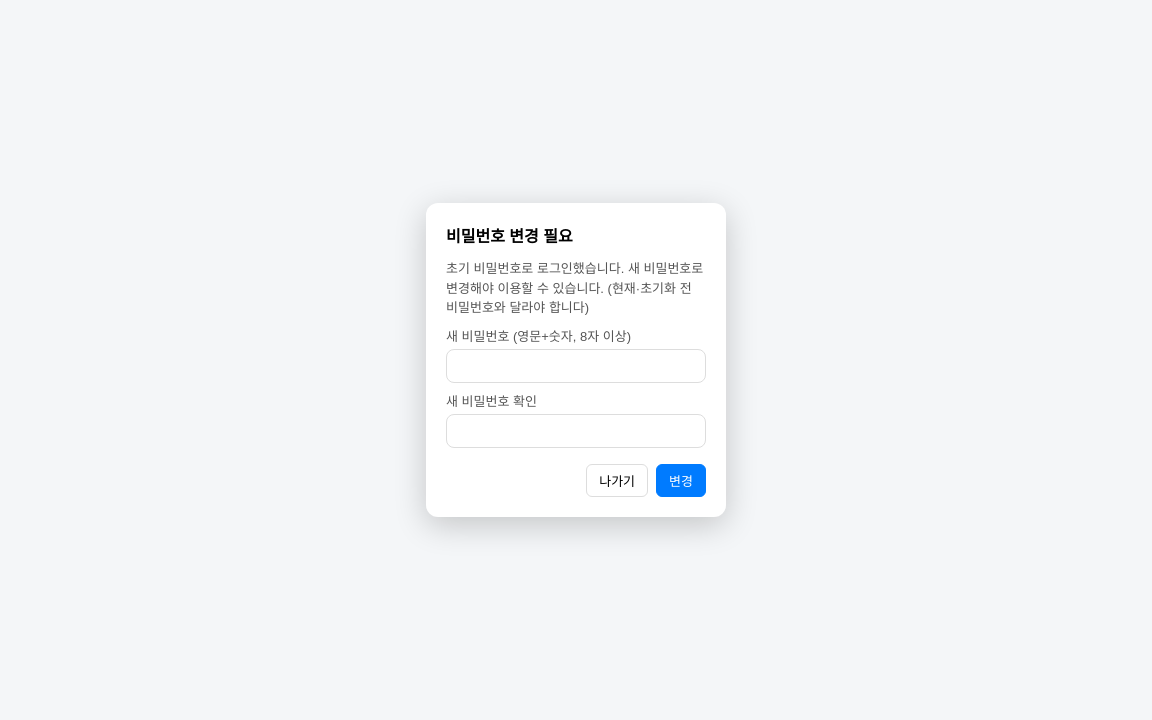
Test case: PasswordChangeModal › 규칙 위반/확인 불일치면 보내지 않고 사유를 보여준다
In the password field with class "new-password": (576, 366) x1=446 y1=349 x2=706 y2=383, type "short1"
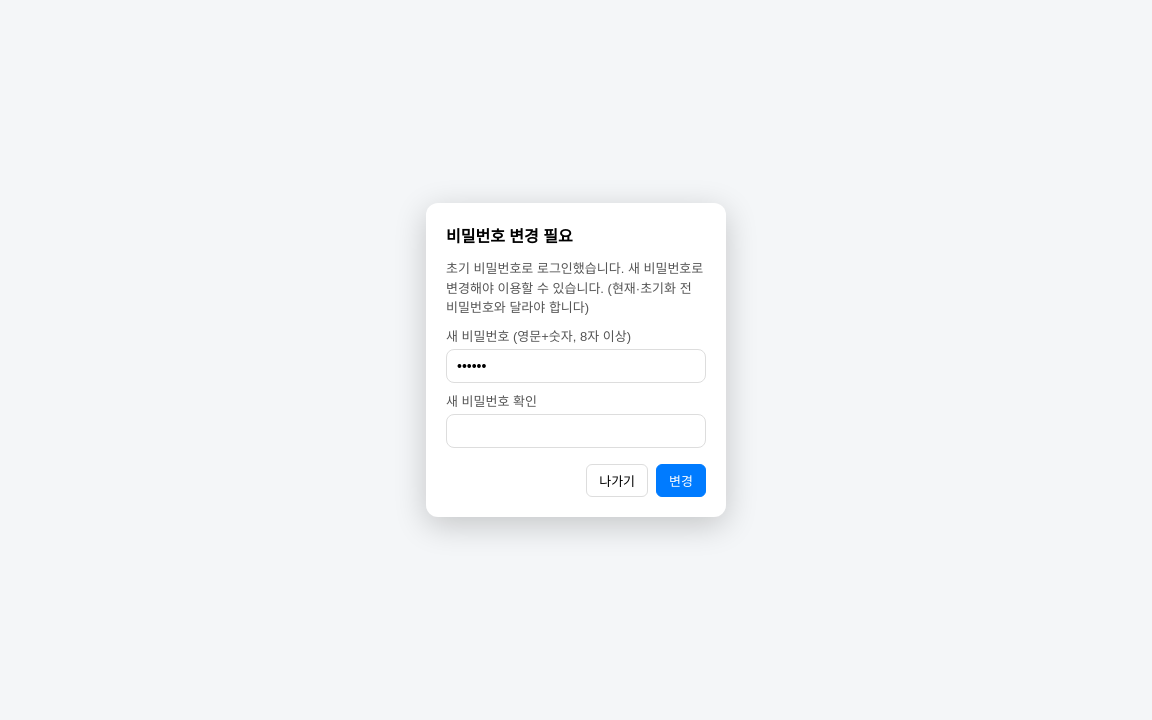
In the password field with class "confirm-password": (576, 431) x1=446 y1=414 x2=706 y2=448, type "short1"
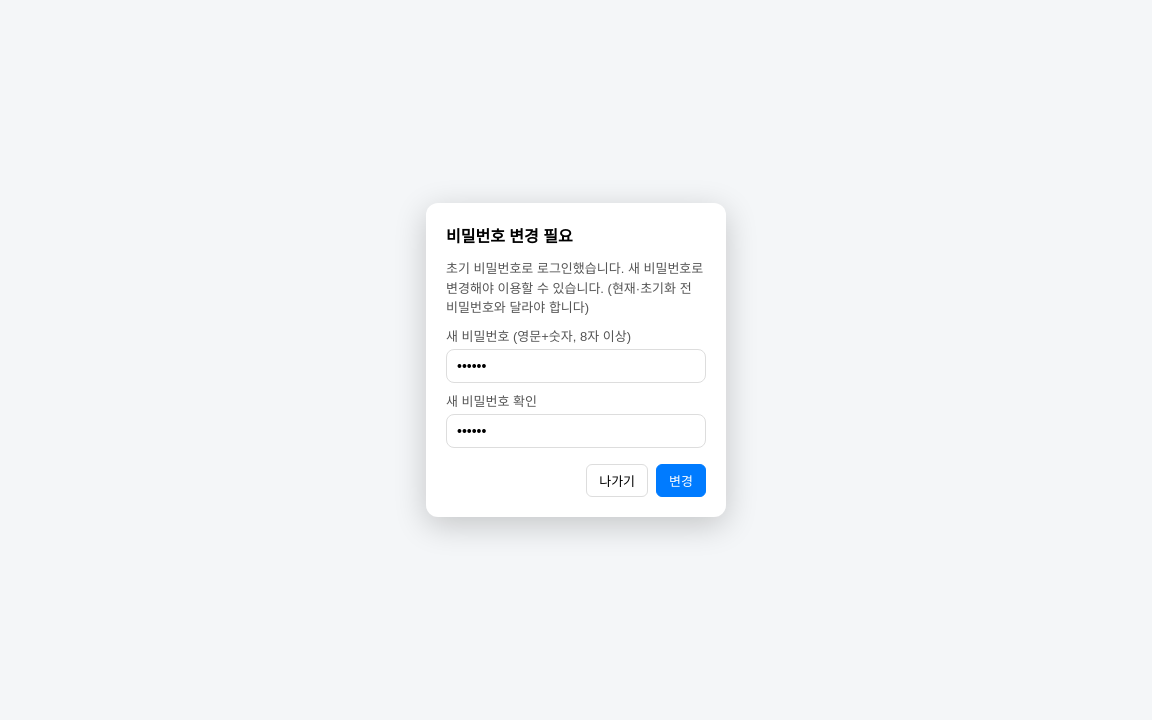
Click the button with class "small-btn" showing "변경": (681, 480) x1=656 y1=464 x2=706 y2=497
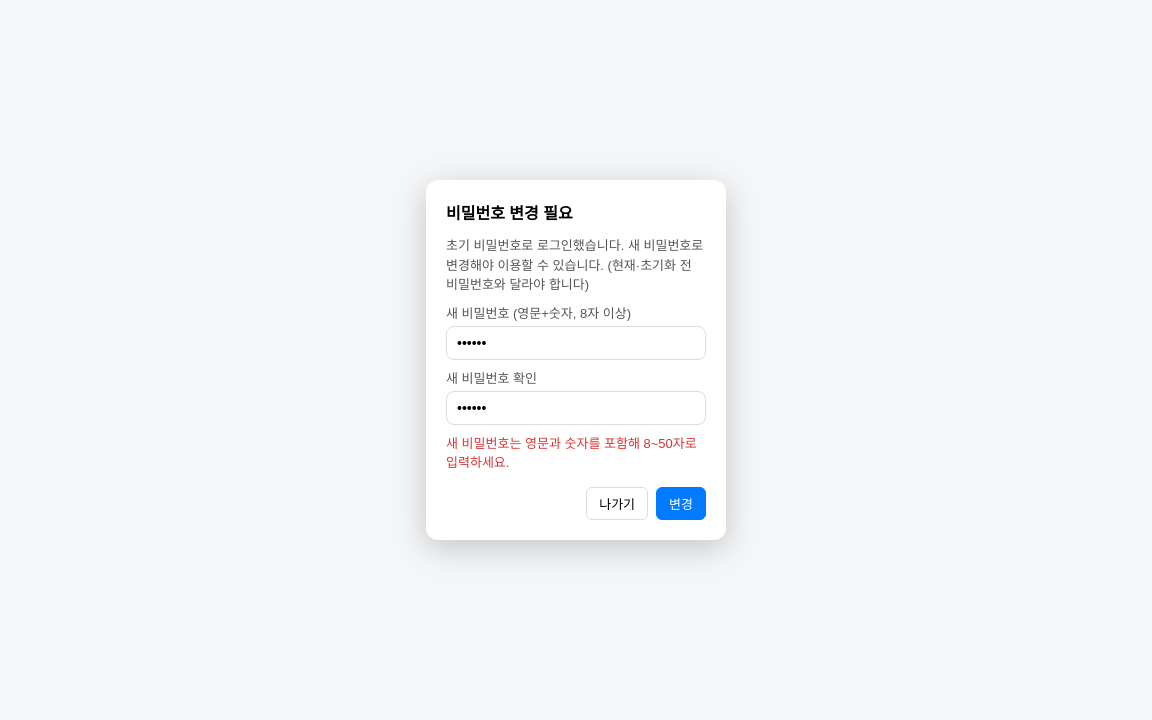
Result: the text "8~50자" is shown at x1=446 y1=436 x2=697 y2=470
In the password field with class "new-password": (576, 343) x1=446 y1=326 x2=706 y2=360, type "newpass99"
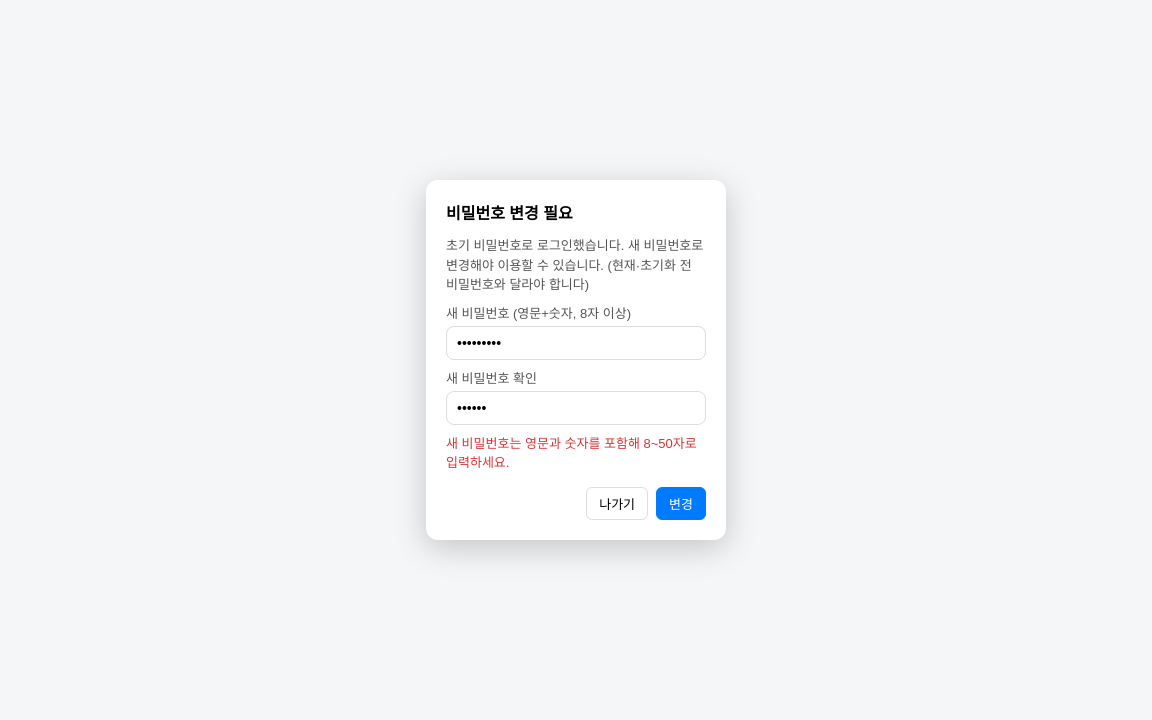
In the password field with class "confirm-password": (576, 408) x1=446 y1=391 x2=706 y2=425, type "newpass98"
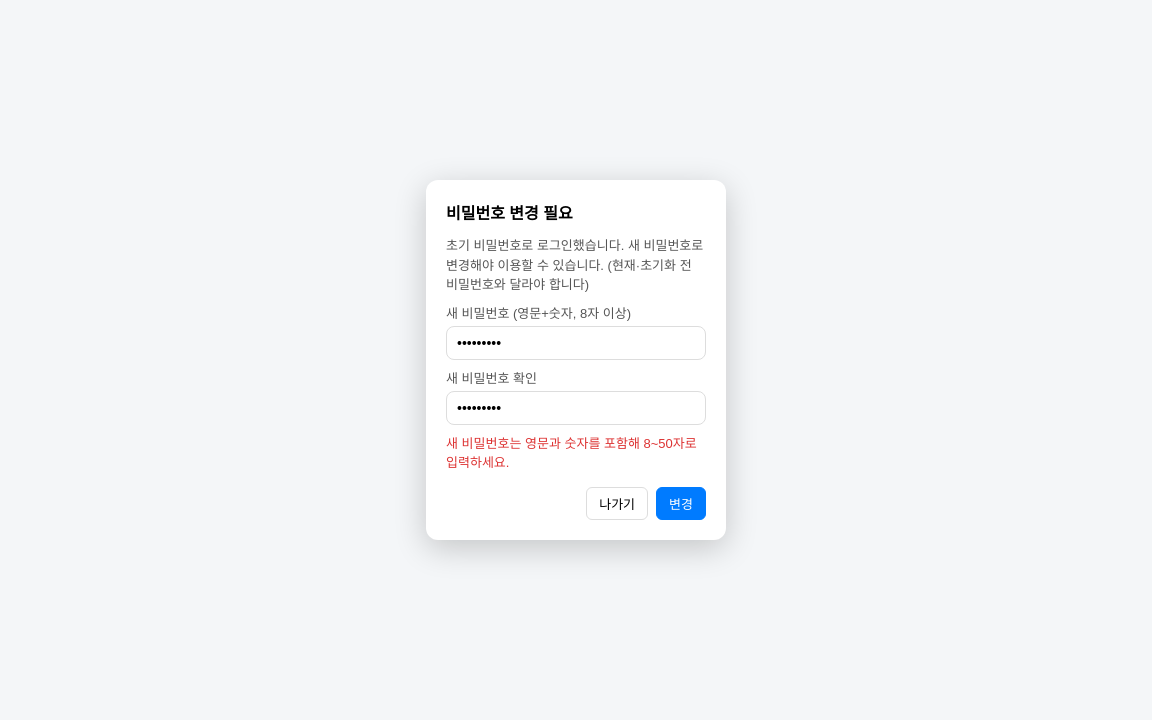
Click the button with class "small-btn" showing "변경": (681, 503) x1=656 y1=487 x2=706 y2=520
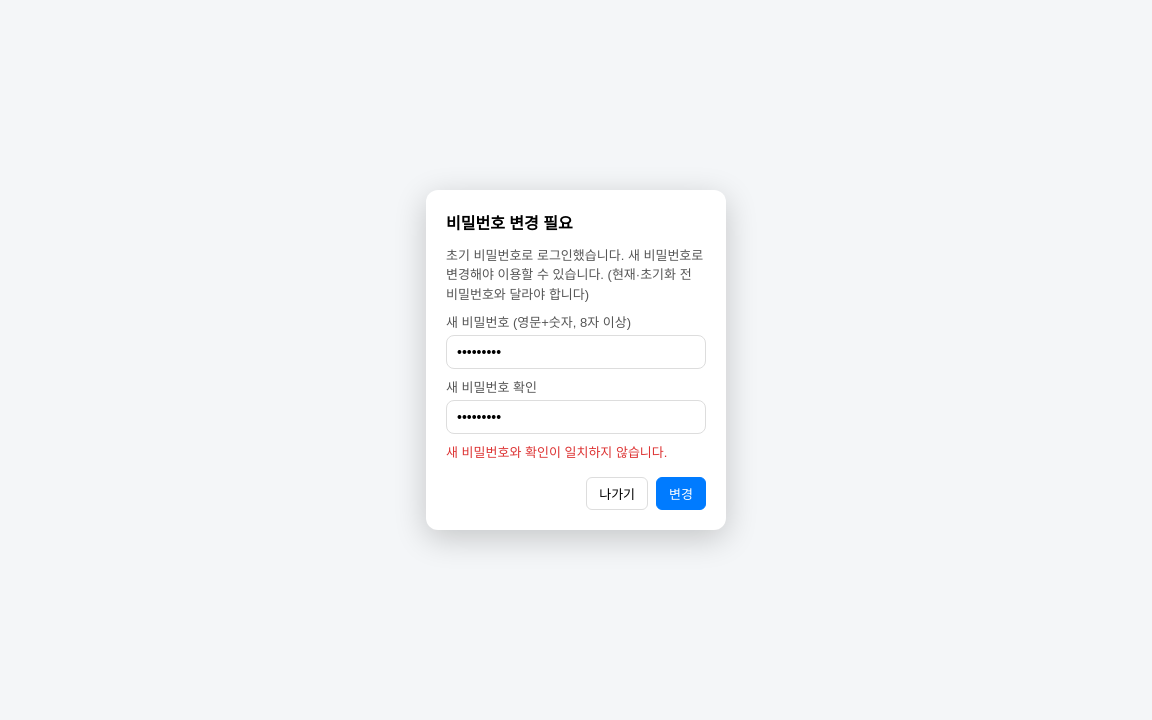
Result: the text "일치하지 않습니다" is shown at x1=446 y1=445 x2=667 y2=460
